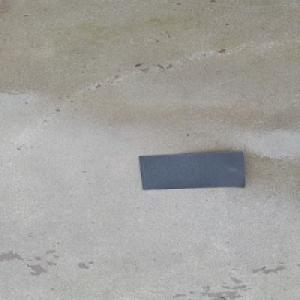PaintChip: (138, 150, 245, 190)
